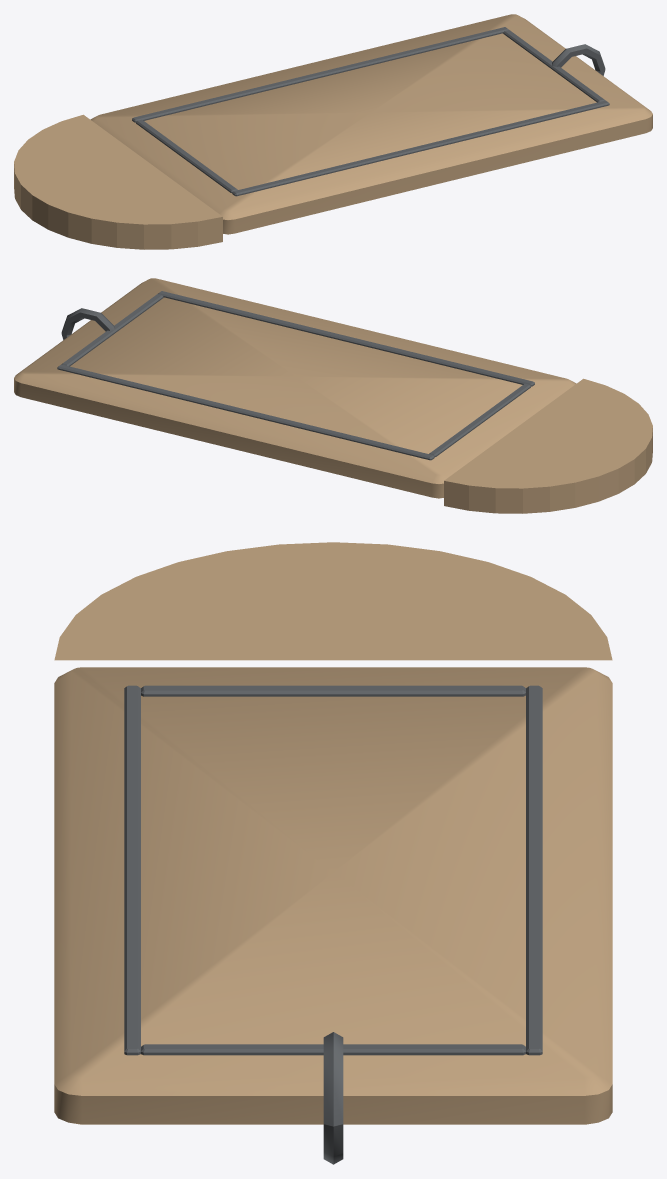
Rendered from bakery-and-cafe-serving-board-6ddb9282__22236.glb.
3 views of the same model, one above another, from view 1: azimuth 30°, elevation 25°; view 2: azimuth 150°, elevation 25°; view 3: azimuth 270°, elevation 25° (orthographic). The views are drawn at different scales.
Parts seen in each view (by area): view 1: serving-board; view 2: serving-board; view 3: serving-board.
Part boxes in pixels (<box>): serving-board: <box>14,14,652,249</box>; serving-board: <box>14,278,652,513</box>; serving-board: <box>54,542,612,1164</box>.
Size of the model in its own units: 0.474 by 0.0456 by 0.2.
